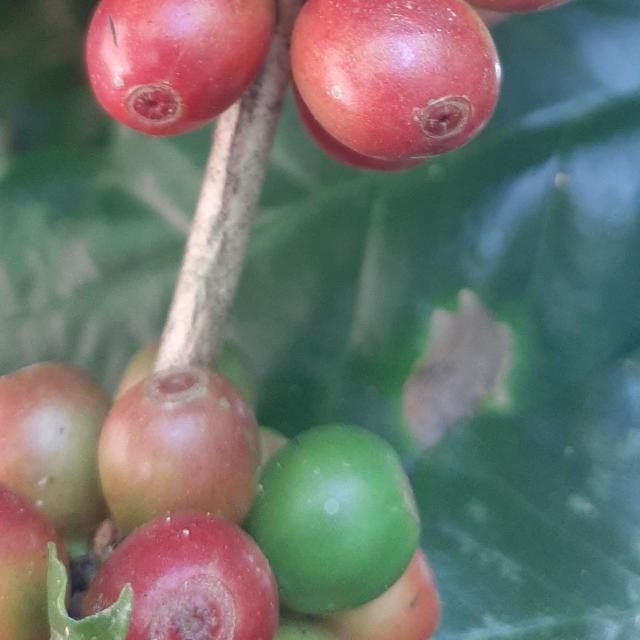green: (246, 425, 420, 616)
red: (290, 0, 502, 161), (85, 0, 275, 136), (82, 512, 278, 640)
yellow: (97, 368, 259, 533), (0, 364, 110, 540), (0, 484, 66, 640), (327, 550, 441, 640)
